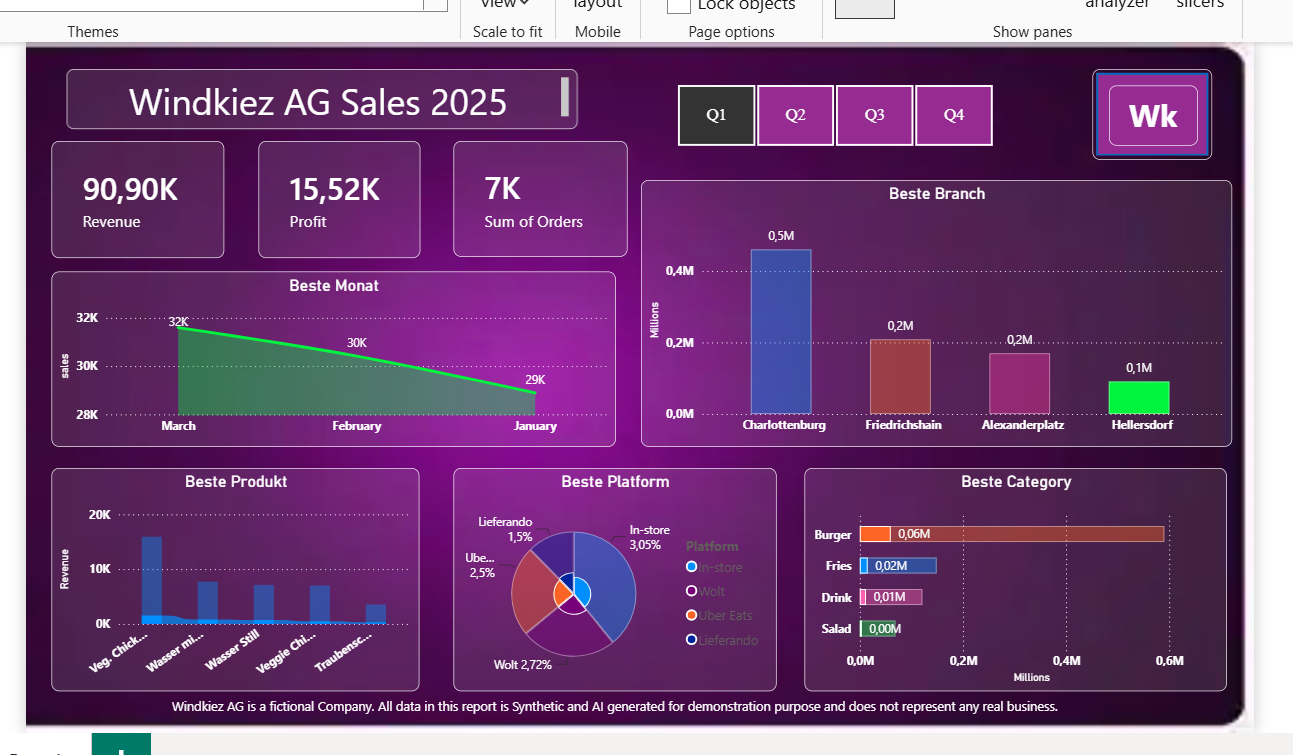

What the dashboard file says about the page in this screenshot:
{"tool":"powerbi","page":{"name":"Page 1","canvas":[1280,720],"ordinal":0},"visuals":[{"type":"cardVisual","fields":{"Data":["Fact_Costs.Revenue"]},"box":[26.6,103.2,179.7,121.9],"z":0},{"type":"cardVisual","fields":{"Data":["Sum(Fact_DayPart.Orders)"]},"box":[446,103.9,181.4,120.9],"z":1000},{"type":"columnChart","title":"Beste Branch ","fields":{"Category":["Dim_Branch.BranchName"],"Y":["Sum(Fact_DayPart.RevenueEUR)"]},"box":[640.6,143.6,616.1,277.8],"z":2000},{"type":"slicer","fields":{"Values":["Dim_Date.Quarter"]},"box":[653.9,37.8,378,77.5],"z":3000},{"type":"pieChart","title":"Beste Platform ","fields":{"Category":["Dim_Channel.Platform"],"Y":["Sum(Fact_DayPart.RevenueEUR)"]},"box":[446,444.1,336.4,232.4],"z":4000},{"type":"textbox","box":[41.6,28.3,532.9,62.4],"z":5000},{"type":"clusteredBarChart","title":"Beste Category ","fields":{"Category":["Dim_Product.Category"],"Y":["Sum(Fact_Sales.GrossRevenueEUR)"]},"box":[810.7,444.1,440.3,232.4],"z":6000},{"type":"cardVisual","fields":{"Data":["Fact_Costs.Profit"]},"box":[242.3,103.2,168.8,121.9],"z":7000},{"type":"areaChart","title":"Beste Monat","fields":{"Category":["Dim_Date.MonthName"],"Y":["Fact_Costs.Revenue"]},"box":[26.6,239.1,587.7,182.9],"z":8000},{"type":"ribbonChart","title":"Beste Produkt ","fields":{"Category":["Dim_Product.ProductName"],"Y":["Fact_Costs.Revenue"]},"box":[26.5,444.1,383.6,232.4],"z":9000},{"type":"shape","box":[1111.2,28.3,124.7,94.5],"z":10000},{"type":"textbox","box":[1128.2,45.4,92.6,62.4],"z":11000},{"type":"textbox","box":[147.4,676.5,1073.4,28.3],"z":12000}]}

Visuals, with their boxes in screenshot pixels (x1, y1, x2, y2):
cardVisual - Fact_Costs.Revenue: [20,150,199,271]
cardVisual - Sum(Fact_DayPart.Orders): [438,151,618,271]
"Beste Branch " columnChart: [631,190,1245,467]
slicer - Dim_Date.Quarter: [645,85,1021,162]
"Beste Platform " pieChart: [438,490,773,721]
textbox: [35,75,566,137]
"Beste Category " clusteredBarChart: [801,490,1240,721]
cardVisual - Fact_Costs.Profit: [235,150,403,271]
"Beste Monat" areaChart: [20,285,605,468]
"Beste Produkt " ribbonChart: [20,490,402,721]
shape: [1100,75,1224,169]
textbox: [1117,92,1209,155]
textbox: [140,721,1209,749]
